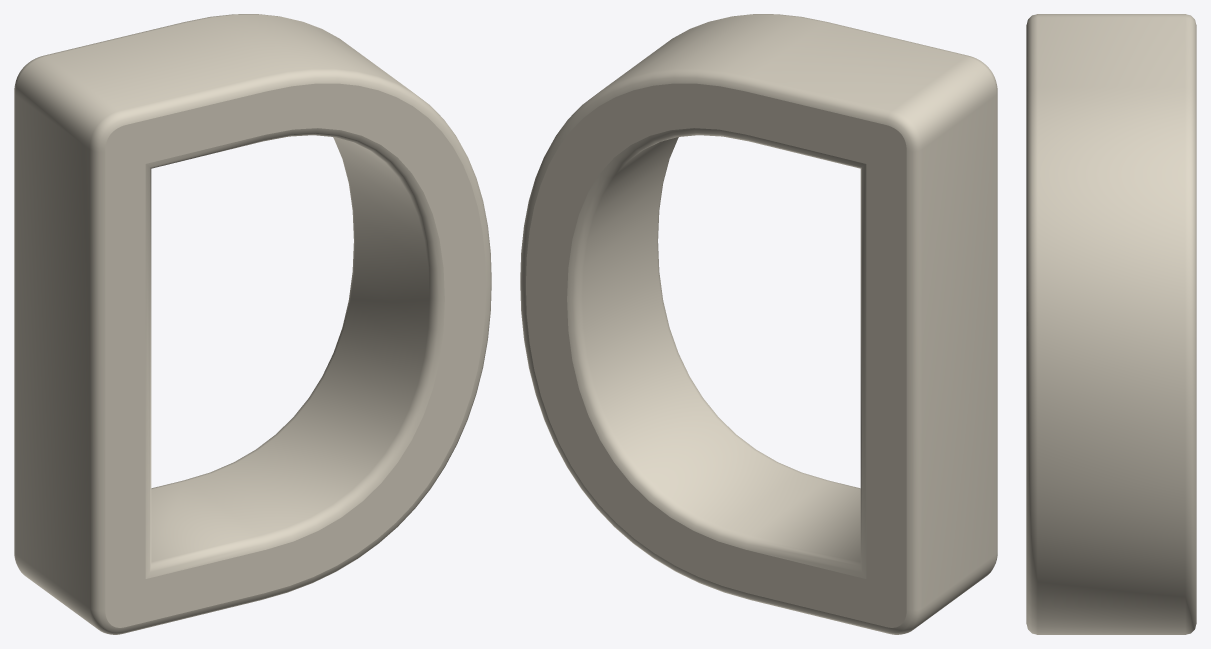
The model's file is letter_d.glb.
The picture shows the model from 3 angles, left to right: view 1: azimuth 30°, elevation 25°; view 2: azimuth 150°, elevation 25°; view 3: azimuth 270°, elevation 25°; orthographic projection.
Visible parts, largest first — view 1: color_body; view 2: color_body; view 3: color_body.
Part boxes in pixels (x1,y1,x2,y2): color_body: [14, 14, 491, 634]; color_body: [520, 14, 997, 634]; color_body: [1026, 14, 1196, 634].
Size of the model in its own units: 0.6553 by 0.8171 by 0.242.
